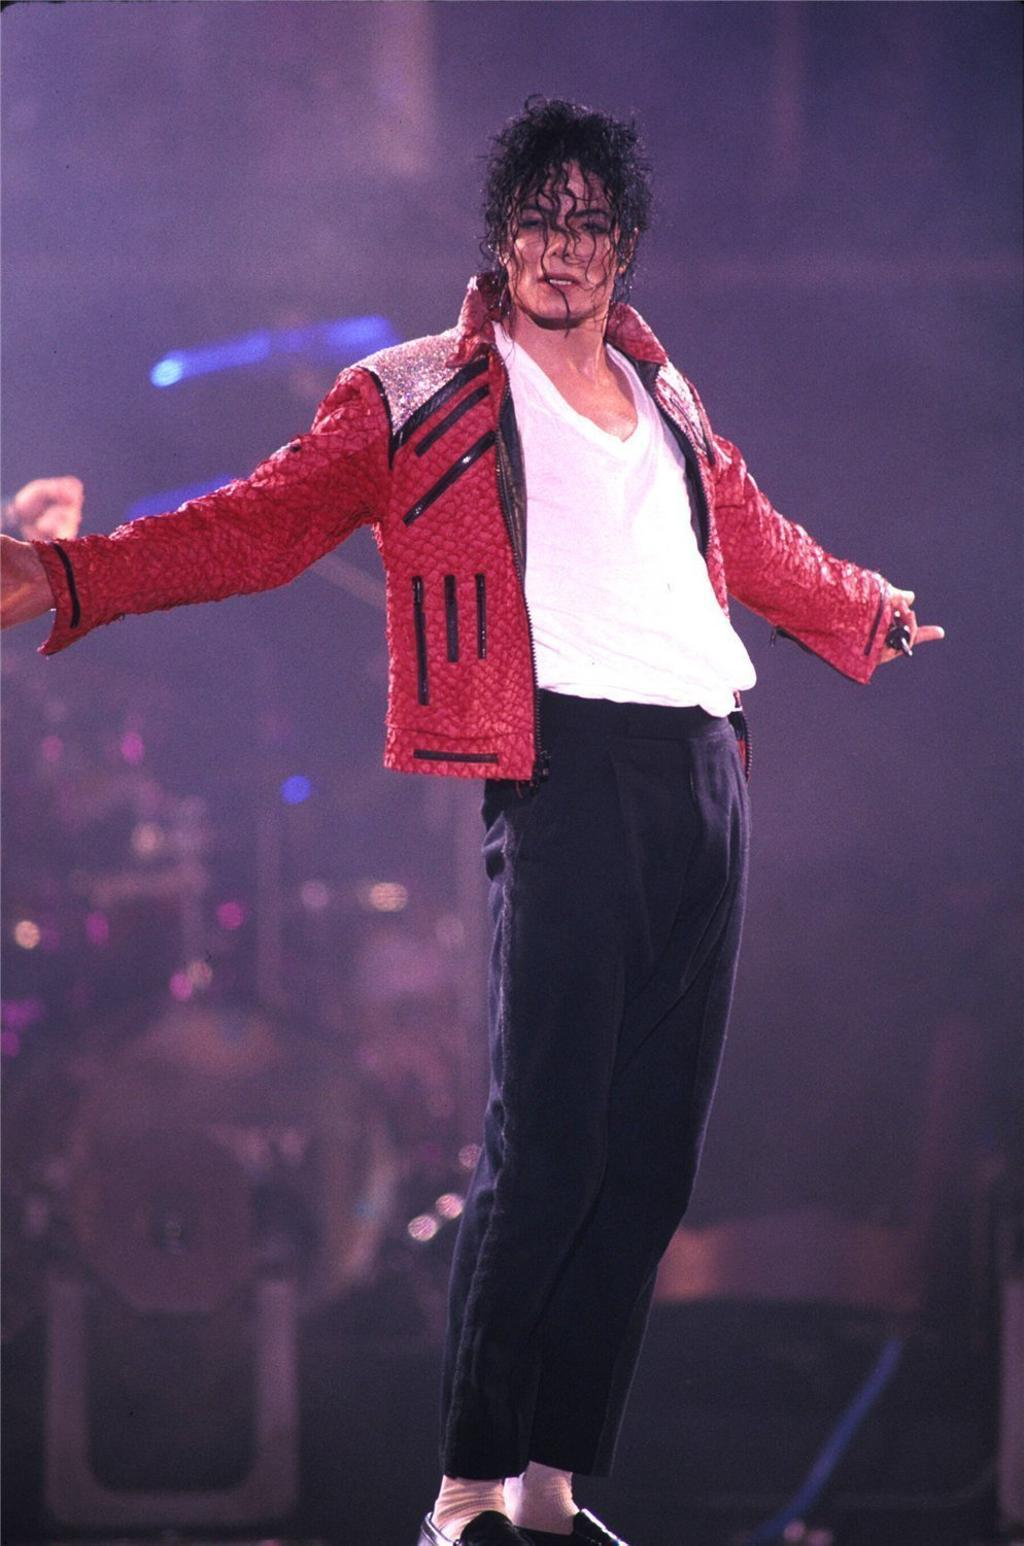face: (505, 149, 620, 330)
